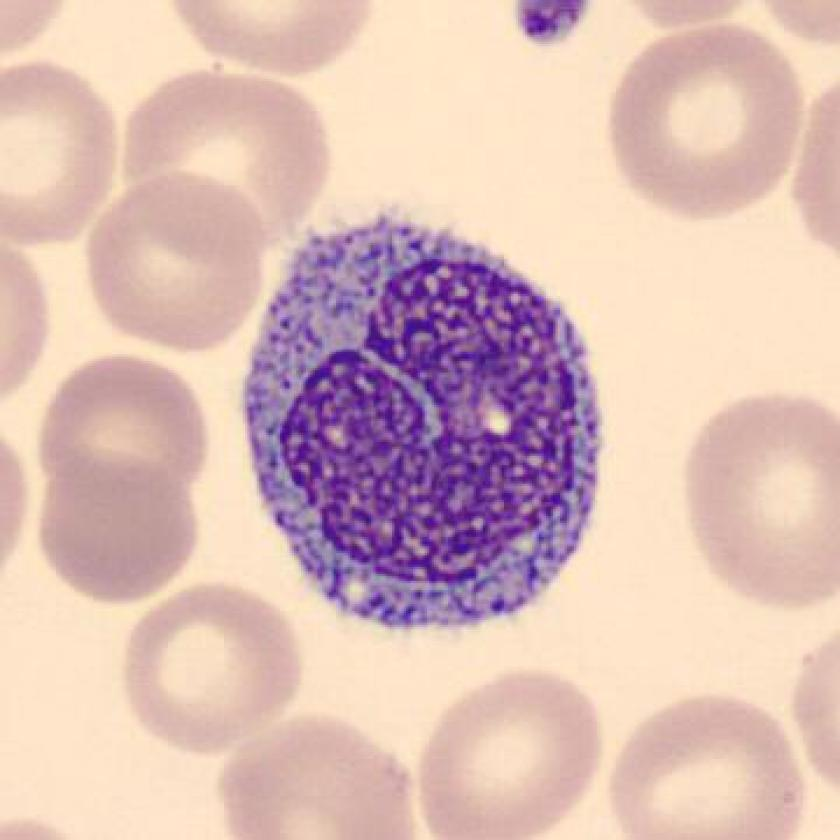monocyte: (225, 193, 617, 649)
